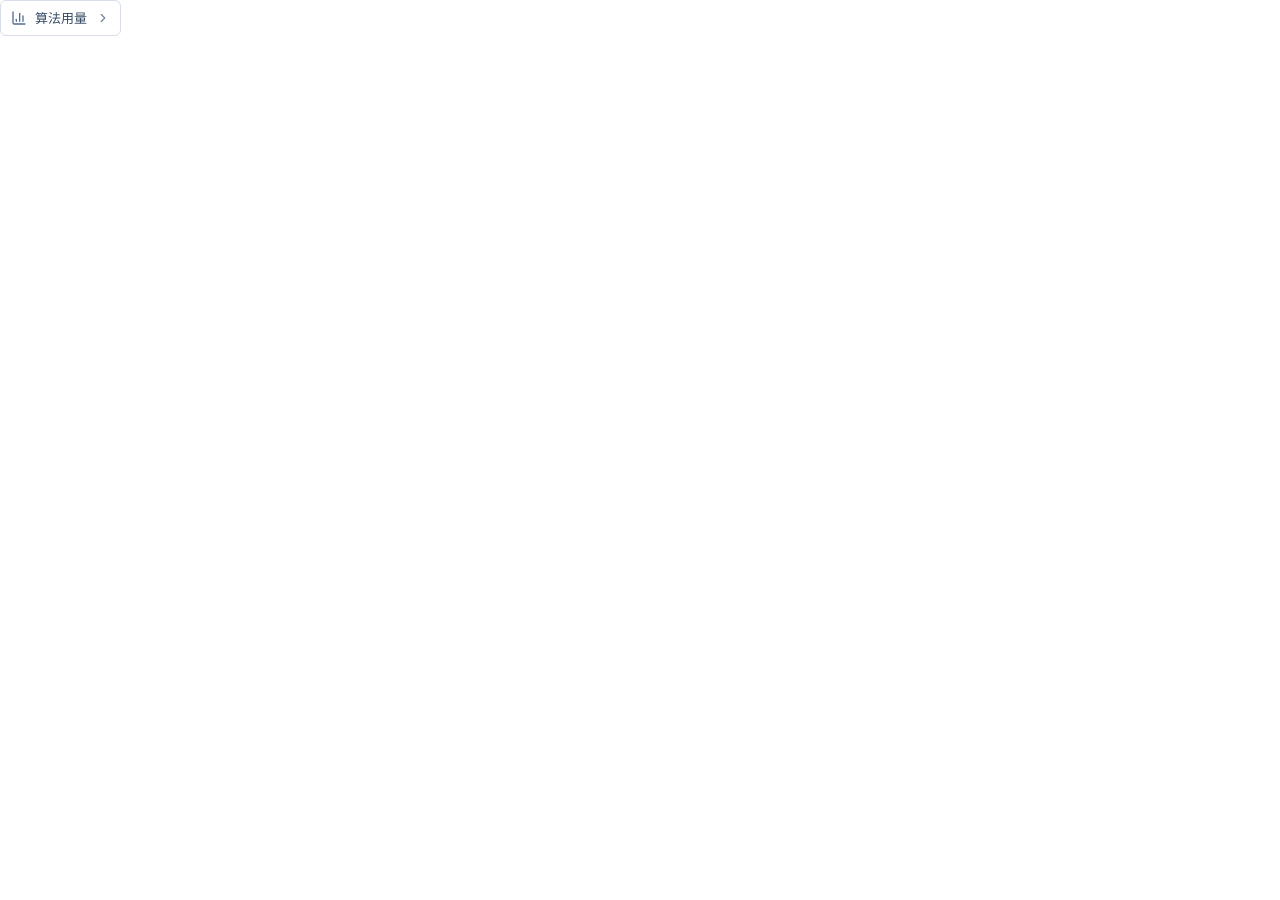
Test case: reads historic stage totals and explains a run entirely served by cache
Click the button "算法用量": (60, 18) [0,0,121,36]
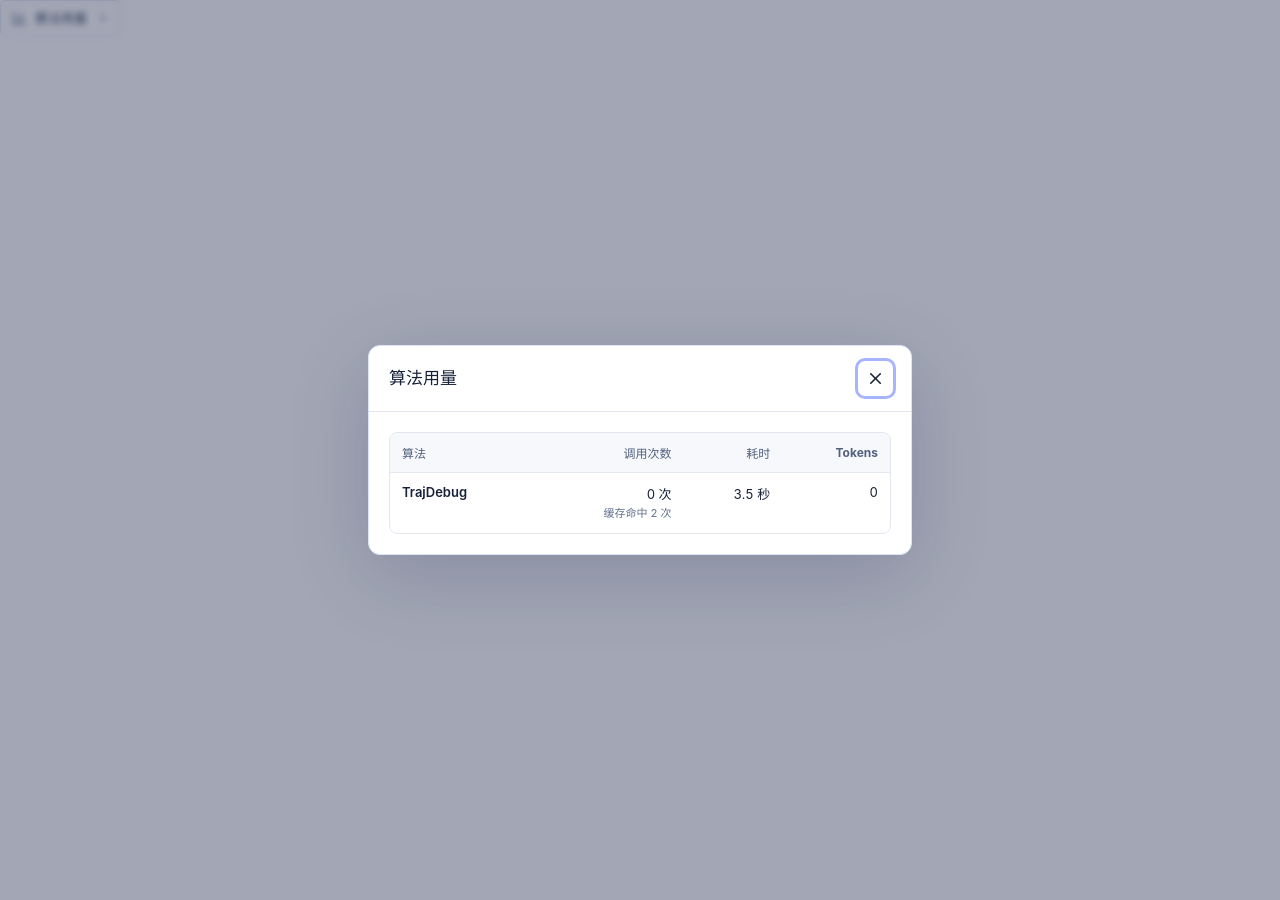
Expected: the cells read "0 次缓存命中 2 次", "3.5 秒", "0", in this order, [534,473,684,533]; [684,473,782,533]; [782,473,890,533]
